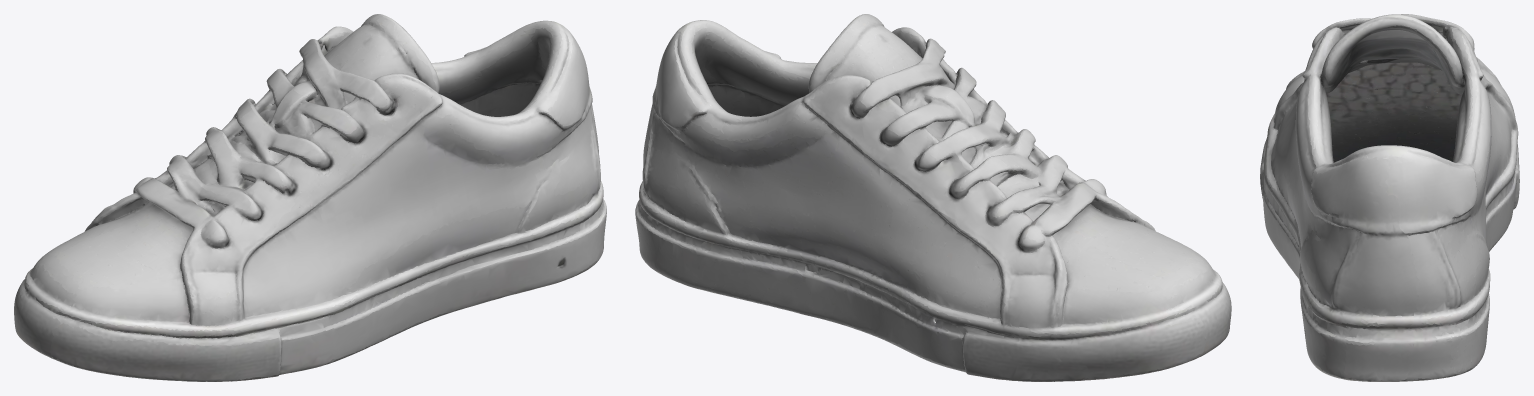
File: sneakers.glb
3 renders of one model, left to right at view 1: azimuth 30°, elevation 25°; view 2: azimuth 150°, elevation 25°; view 3: azimuth 270°, elevation 25°, orthographic. The views are drawn at different scales.
Parts seen in each view (by area): view 1: geometry_0; view 2: geometry_0; view 3: geometry_0.
Boxes of the visible parts, bbox=[...] form: geometry_0: bbox=[14, 14, 606, 381]; geometry_0: bbox=[635, 14, 1231, 381]; geometry_0: bbox=[1260, 14, 1519, 381].
Bounding box in the file's own units: 0.28 × 0.1296 × 0.1077.
Materials: 1 (1 with a texture image).
